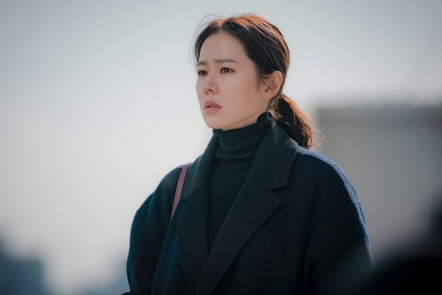female: (185, 15, 320, 143)
